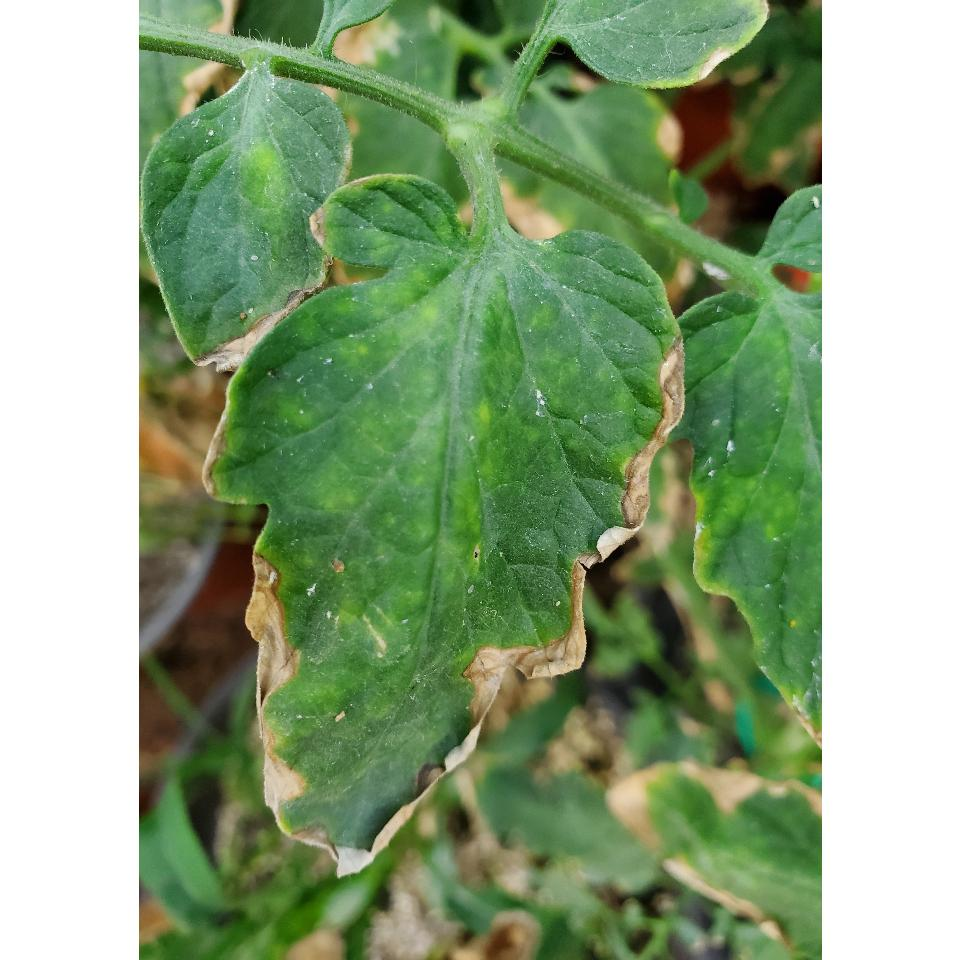tomato_bacterial_blight: (202, 181, 694, 873)
